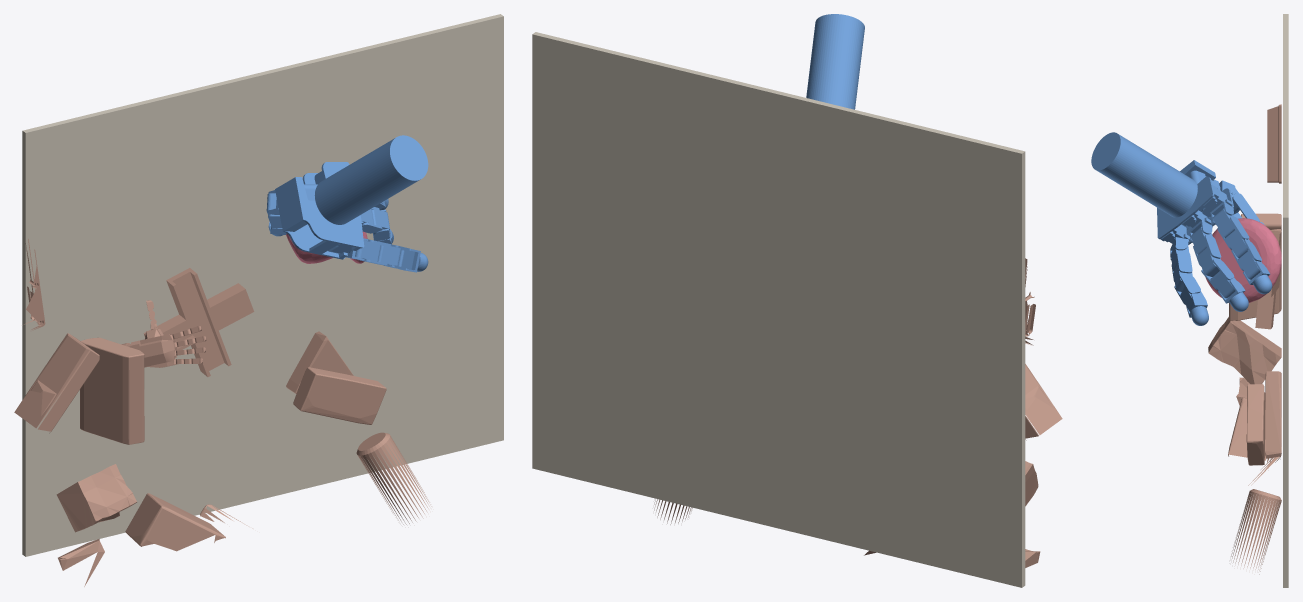
The picture shows the model from 3 angles, left to right: view 1: azimuth 30°, elevation 25°; view 2: azimuth 150°, elevation 25°; view 3: azimuth 270°, elevation 25°; orthographic projection. The views are drawn at different scales.
Visible parts, largest first — view 1: environment, hand, obstacle_011, obstacle_004, obstacle_003, obstacle_000, obstacle_001, obstacle_008, obstacle_007, obstacle_009, obstacle_002, obstacle_010 (+1 smaller); view 2: environment, hand, obstacle_003; view 3: hand, environment, obstacle_008, world, obstacle_007, obstacle_000, obstacle_002, obstacle_010, obstacle_001, obstacle_004, obstacle_011, obstacle_003.
Part boxes in pixels (x1=…): environment: x1=22, y1=14, x2=503, y2=556; hand: x1=266, y1=135, x2=428, y2=272; obstacle_011: x1=80, y1=337, x2=144, y2=444; obstacle_004: x1=143, y1=268, x2=254, y2=376; obstacle_003: x1=14, y1=333, x2=99, y2=433; obstacle_000: x1=293, y1=367, x2=386, y2=424; obstacle_001: x1=125, y1=493, x2=225, y2=551; obstacle_008: x1=56, y1=464, x2=136, y2=532; obstacle_007: x1=356, y1=432, x2=431, y2=524; obstacle_009: x1=121, y1=300, x2=206, y2=367; obstacle_002: x1=286, y1=331, x2=353, y2=393; obstacle_010: x1=24, y1=239, x2=45, y2=330; environment: x1=532, y1=32, x2=1025, y2=587; hand: x1=806, y1=14, x2=864, y2=109; obstacle_003: x1=1025, y1=364, x2=1062, y2=440; hand: x1=1091, y1=132, x2=1272, y2=325; environment: x1=1283, y1=14, x2=1288, y2=587; obstacle_008: x1=1208, y1=317, x2=1281, y2=384; world: x1=1205, y1=218, x2=1281, y2=302; obstacle_007: x1=1231, y1=489, x2=1281, y2=574; obstacle_000: x1=1246, y1=384, x2=1265, y2=465; obstacle_002: x1=1265, y1=371, x2=1281, y2=458; obstacle_010: x1=1267, y1=104, x2=1281, y2=183; obstacle_001: x1=1228, y1=398, x2=1271, y2=462; obstacle_004: x1=1255, y1=230, x2=1281, y2=329; obstacle_011: x1=1229, y1=229, x2=1281, y2=320; obstacle_003: x1=1241, y1=213, x2=1281, y2=230.
Size of the model in its own units: 0.6978 by 0.6341 by 0.2779.
